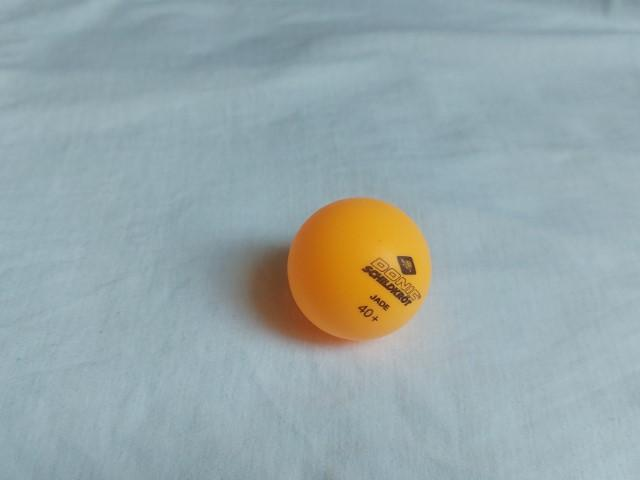oball: (280, 191, 438, 350)
